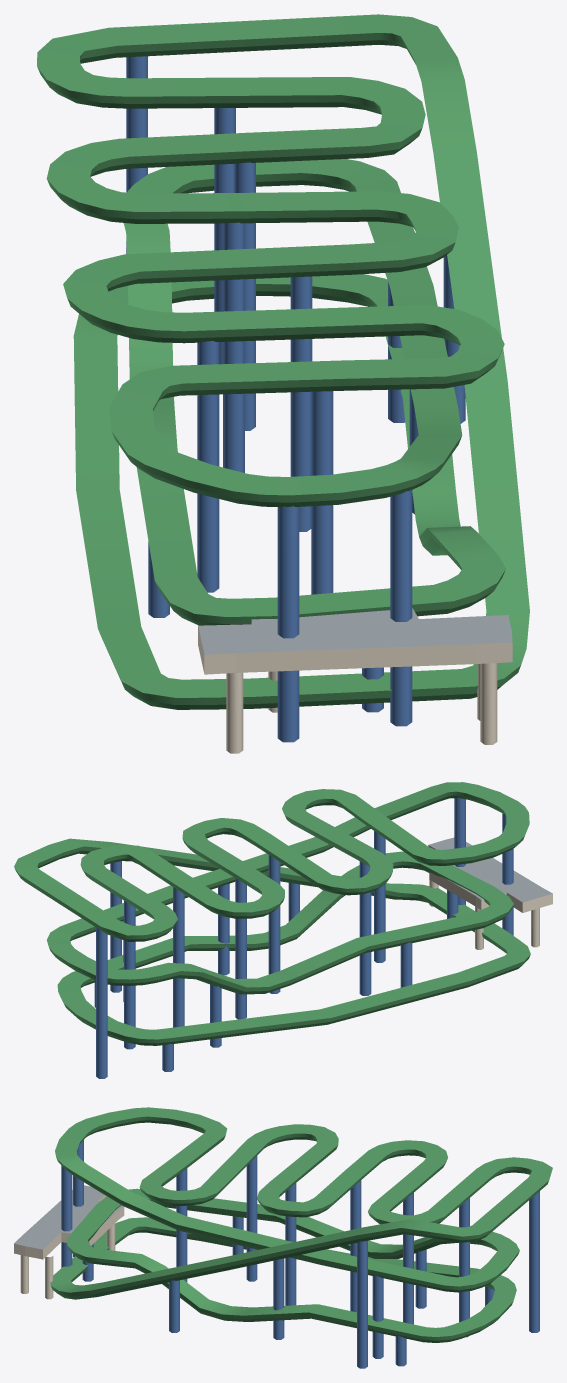
File: detail.glb
The picture shows the model from 3 angles, top to bottom: view 1: azimuth 30°, elevation 25°; view 2: azimuth 150°, elevation 25°; view 3: azimuth 270°, elevation 25°; orthographic projection. The views are drawn at different scales.
Visible parts, largest first — view 1: ricochet-carowinds; view 2: ricochet-carowinds; view 3: ricochet-carowinds.
Boxes of the visible parts, left/top/right/bottom form: ricochet-carowinds: left=37, top=14, right=529, bottom=753; ricochet-carowinds: left=14, top=782, right=552, bottom=1078; ricochet-carowinds: left=14, top=1107, right=552, bottom=1368.
Bounding box in the file's own units: 30.08 × 13.75 × 44.43.
